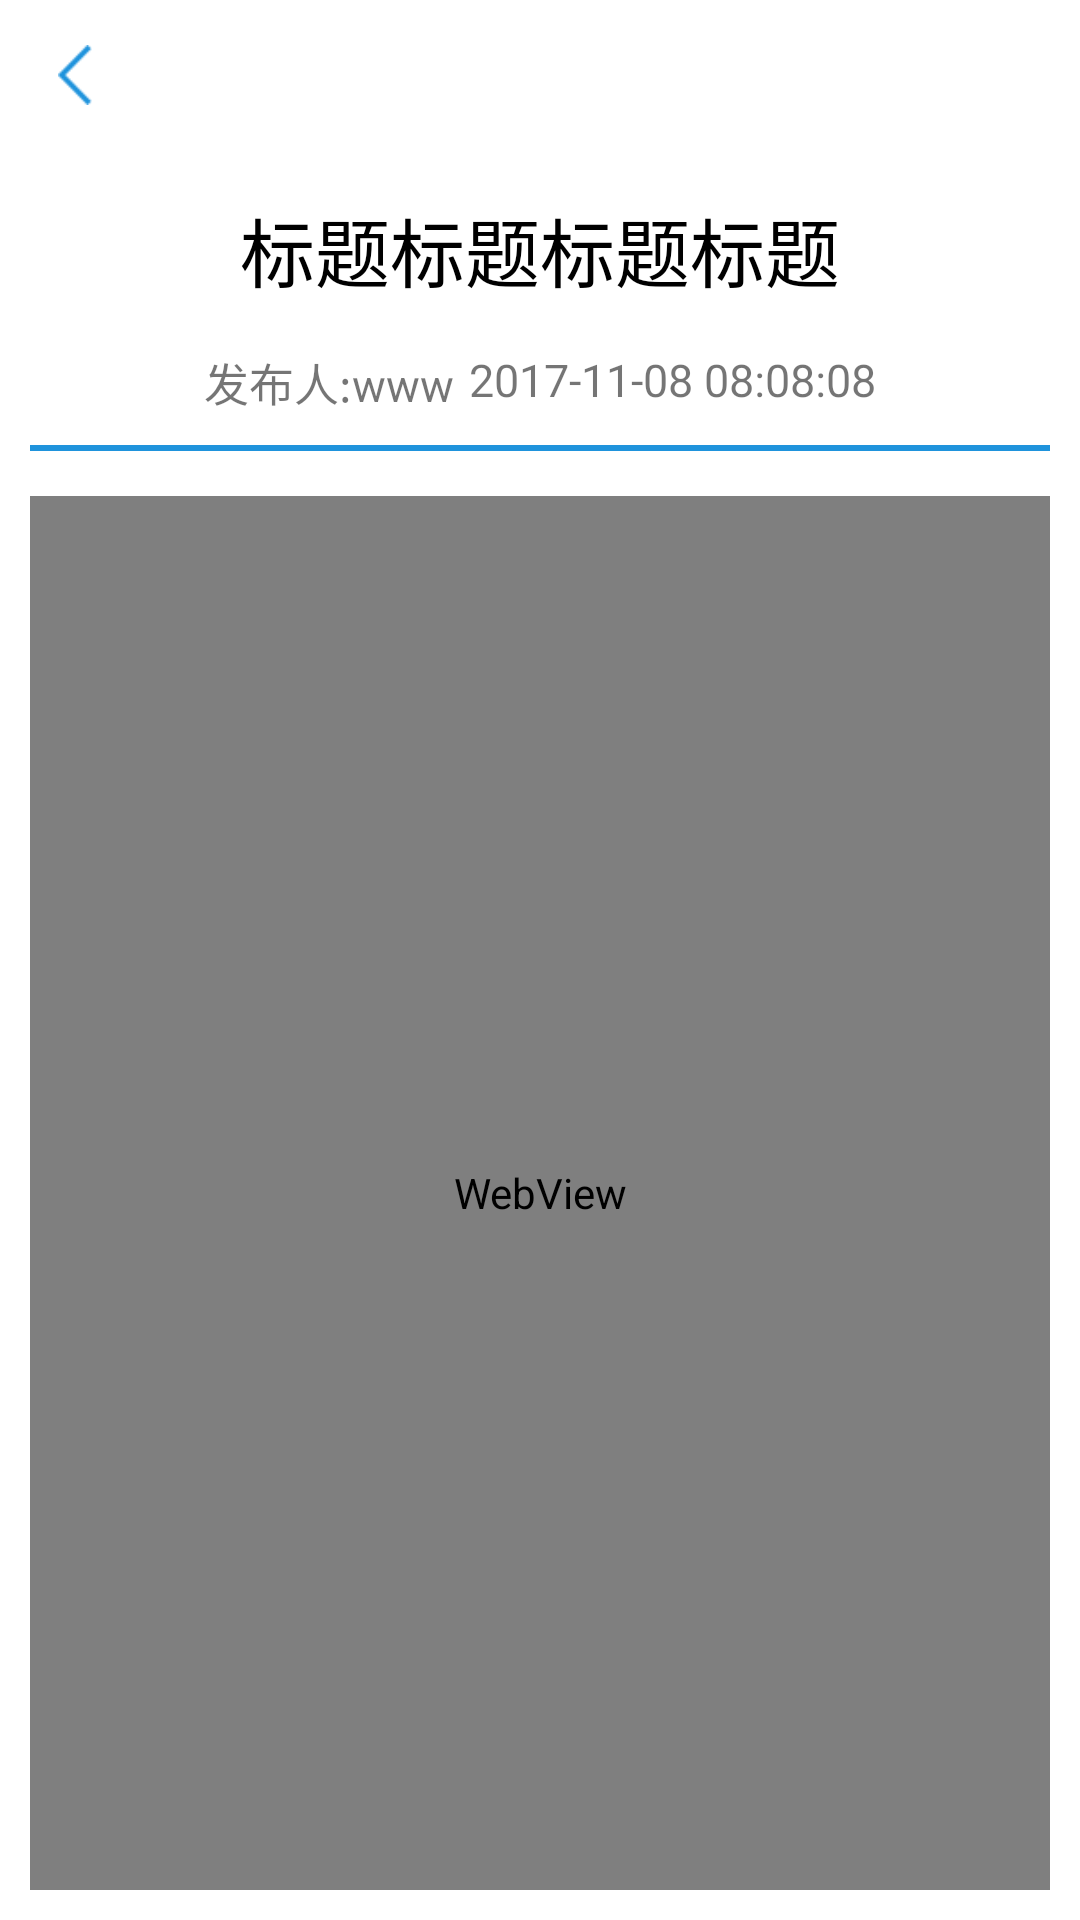

Where to tap for icons on this 1080*1920 app screen, as point (x, y):
back: point (75, 75)
